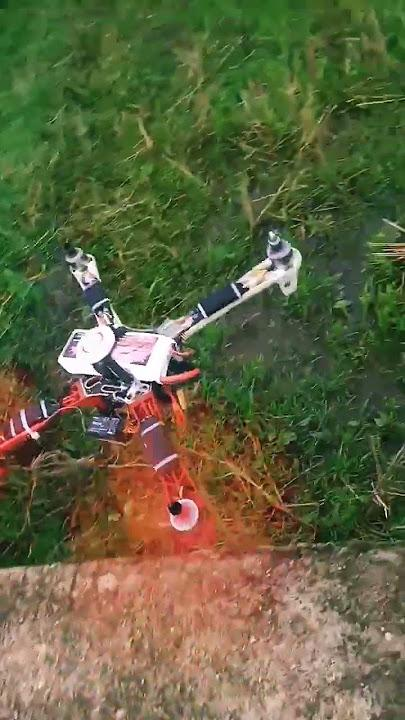drone: (0, 192, 339, 580)
